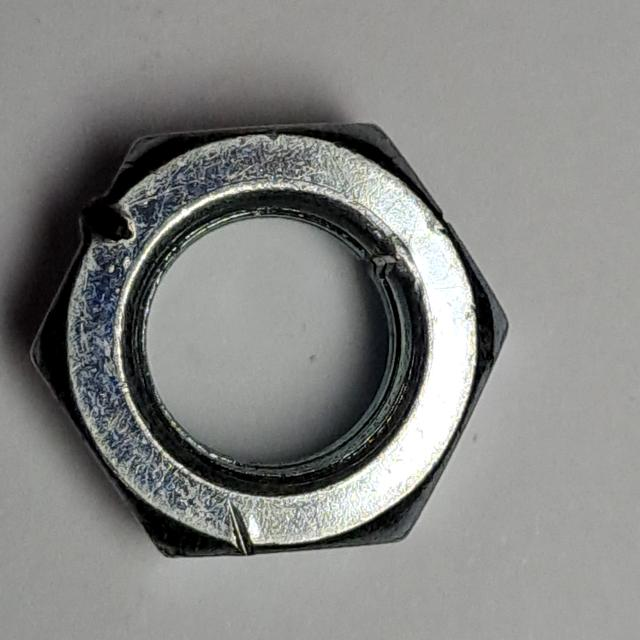Scratches: (12, 109, 525, 589)
